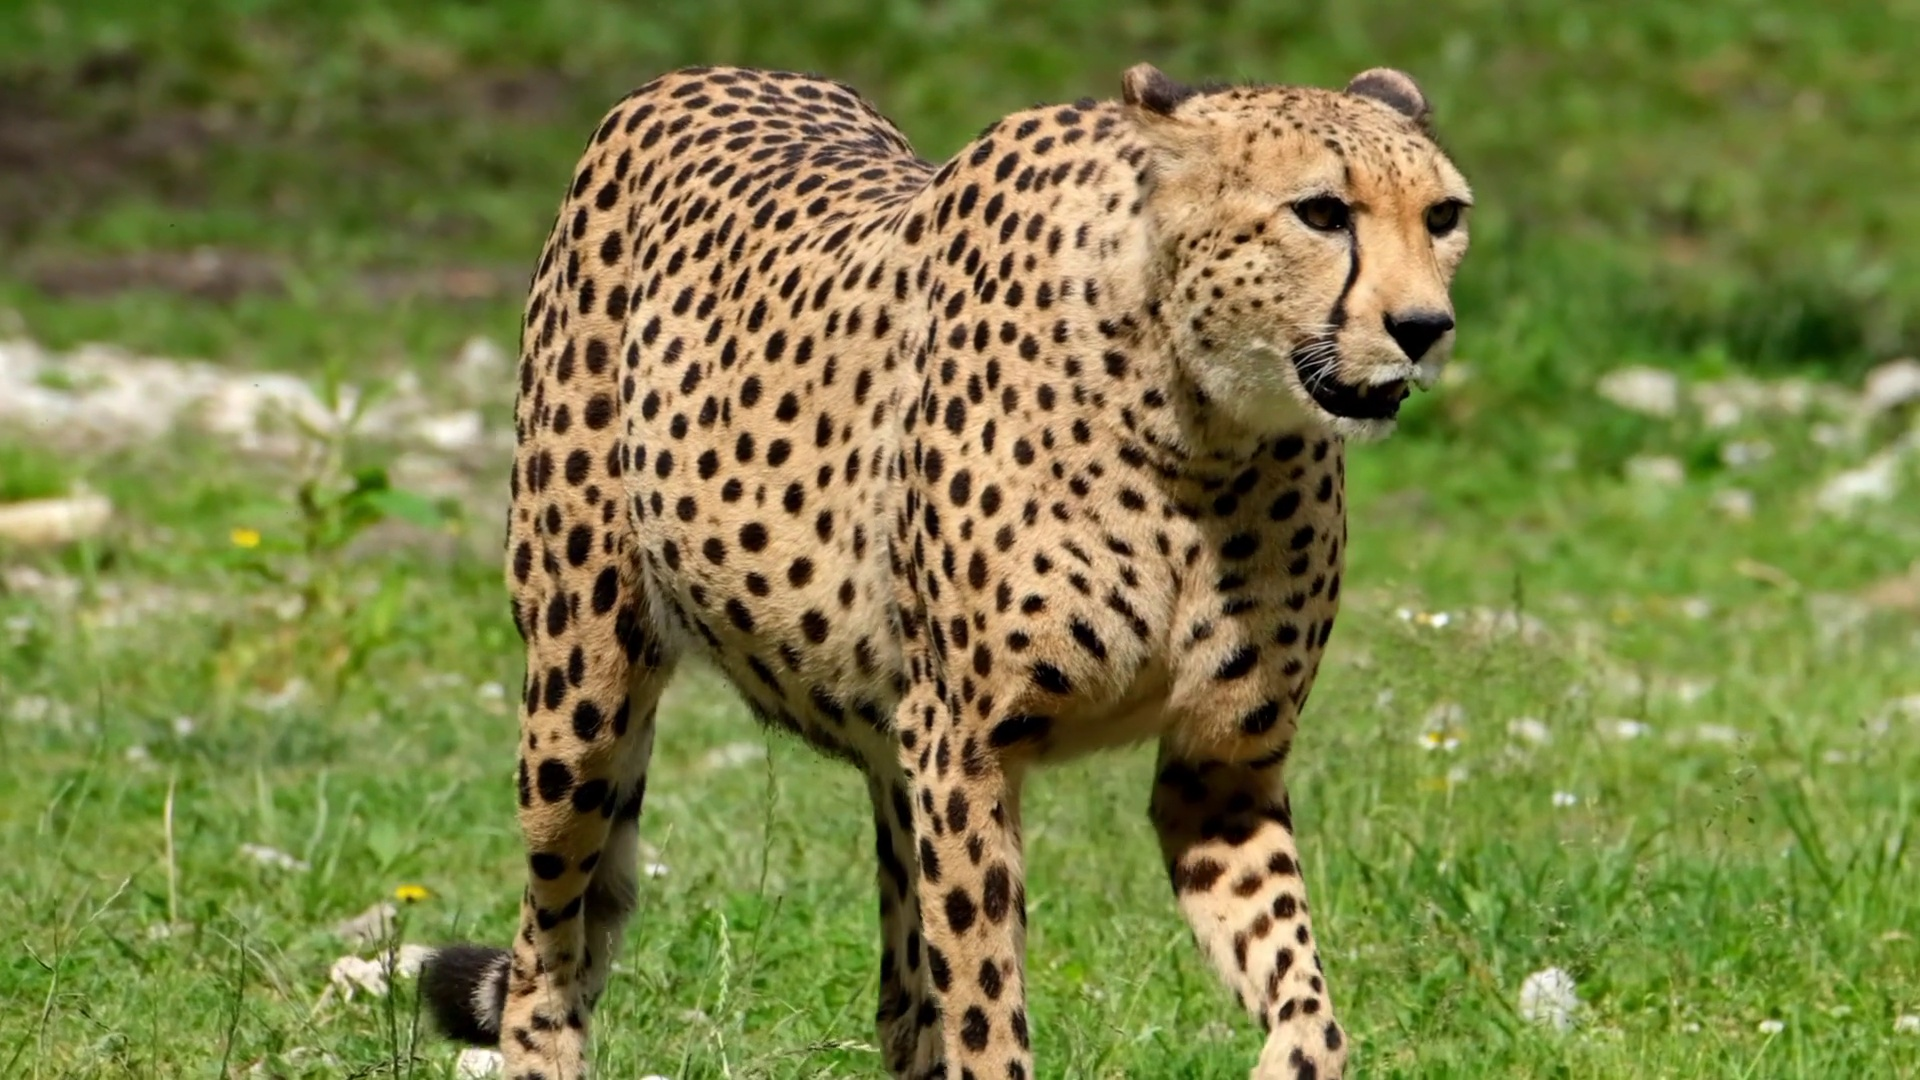Cheetah: (418, 55, 1473, 1080)
